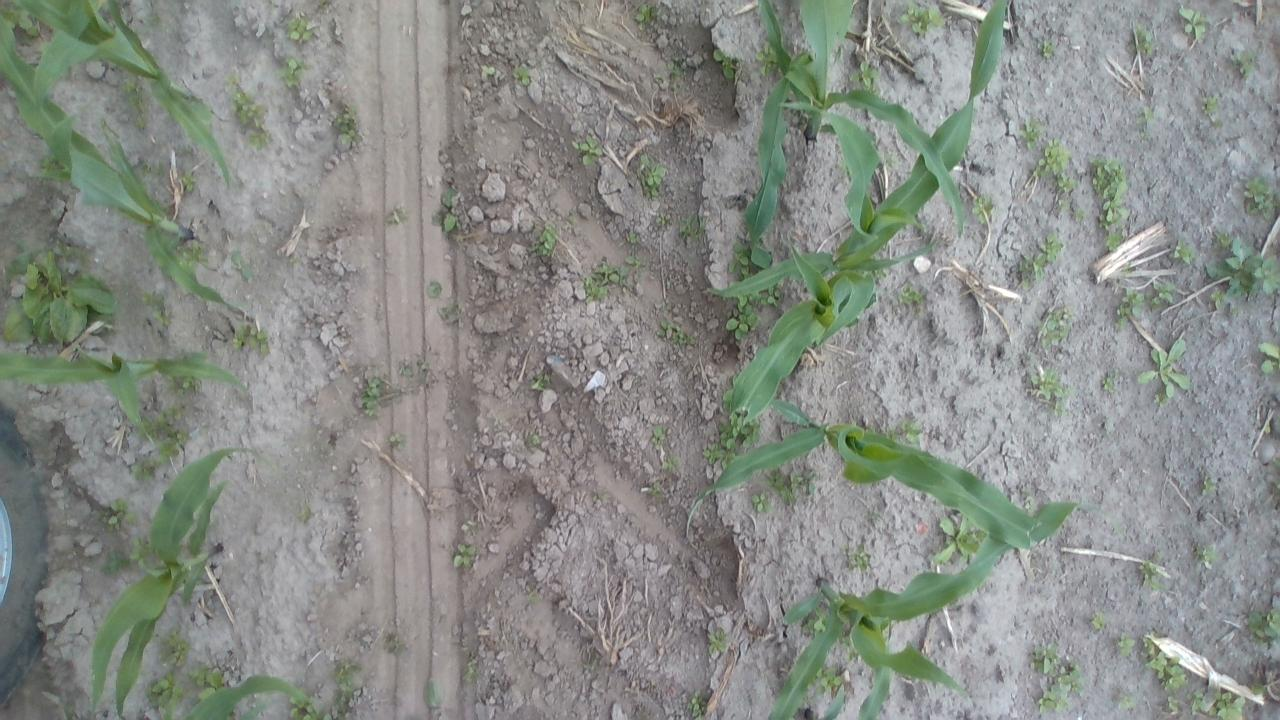Maize: (708, 0, 1011, 297), (0, 18, 245, 312), (768, 501, 1078, 720), (747, 0, 965, 249), (693, 402, 1039, 551), (95, 445, 258, 720), (16, 0, 232, 195), (728, 241, 875, 454), (0, 347, 247, 432), (178, 676, 308, 720), (756, 0, 794, 72), (802, 684, 845, 720)
Weeds: (0, 232, 120, 350), (1022, 116, 1082, 222), (1205, 233, 1280, 314), (355, 360, 435, 418), (132, 396, 189, 476), (1138, 330, 1199, 399), (1090, 153, 1132, 250), (224, 66, 268, 152), (1032, 648, 1086, 712), (928, 514, 982, 569), (1140, 636, 1190, 690), (1012, 234, 1061, 286), (709, 408, 754, 458), (1032, 373, 1074, 424), (1035, 294, 1078, 340), (768, 462, 814, 502), (581, 260, 624, 299), (1242, 604, 1280, 648), (897, 4, 948, 36), (1190, 691, 1246, 720), (1243, 173, 1276, 222), (148, 672, 180, 718), (431, 189, 463, 235), (121, 76, 148, 130), (158, 622, 188, 666), (230, 320, 268, 354), (274, 54, 306, 93), (638, 156, 668, 197), (730, 294, 756, 340), (189, 663, 224, 694), (140, 292, 170, 328), (1128, 27, 1165, 56), (894, 414, 930, 443), (852, 60, 886, 90), (816, 666, 844, 702), (1136, 556, 1164, 592), (128, 536, 158, 569), (1116, 287, 1146, 320), (35, 156, 71, 183), (756, 46, 784, 80), (658, 322, 692, 350), (334, 100, 359, 138), (166, 373, 202, 399), (724, 238, 750, 274), (101, 498, 133, 527), (573, 134, 601, 166), (1165, 238, 1196, 266), (536, 224, 563, 256), (0, 6, 34, 31), (1238, 44, 1264, 76), (1182, 8, 1208, 40), (1256, 340, 1280, 374), (287, 15, 317, 42), (1187, 538, 1213, 569), (285, 697, 320, 720), (100, 549, 130, 575), (453, 540, 477, 572), (1199, 470, 1223, 501), (180, 246, 208, 272), (712, 50, 736, 80), (684, 696, 712, 720), (664, 60, 692, 84), (438, 301, 462, 328), (231, 251, 253, 280), (848, 546, 872, 572), (624, 254, 648, 280), (510, 61, 532, 89), (422, 678, 443, 705), (1152, 281, 1174, 305), (702, 629, 726, 651), (182, 168, 202, 194), (646, 483, 672, 503), (1114, 693, 1142, 711), (970, 195, 996, 214), (636, 5, 658, 27), (678, 216, 700, 238), (904, 288, 926, 310), (749, 490, 772, 511), (461, 664, 485, 684), (1250, 672, 1268, 698), (384, 632, 402, 658), (1087, 611, 1109, 632), (384, 207, 408, 226), (1268, 458, 1280, 494), (1202, 96, 1219, 120), (424, 280, 446, 298), (663, 457, 686, 474), (525, 427, 543, 447), (806, 616, 828, 632), (1039, 35, 1055, 57), (1116, 632, 1133, 652), (1161, 698, 1182, 714), (647, 422, 665, 440), (654, 211, 674, 227), (300, 501, 316, 520), (528, 376, 548, 391), (762, 288, 782, 303), (386, 433, 404, 449), (142, 159, 160, 175), (526, 586, 544, 601), (480, 64, 496, 80), (332, 662, 346, 680), (1102, 376, 1114, 395), (1134, 108, 1152, 119), (461, 520, 476, 532), (625, 228, 635, 241), (1263, 424, 1271, 436)
